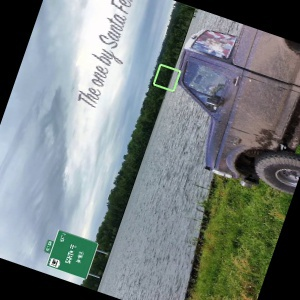square: (45, 228, 100, 282), (151, 62, 182, 93)
